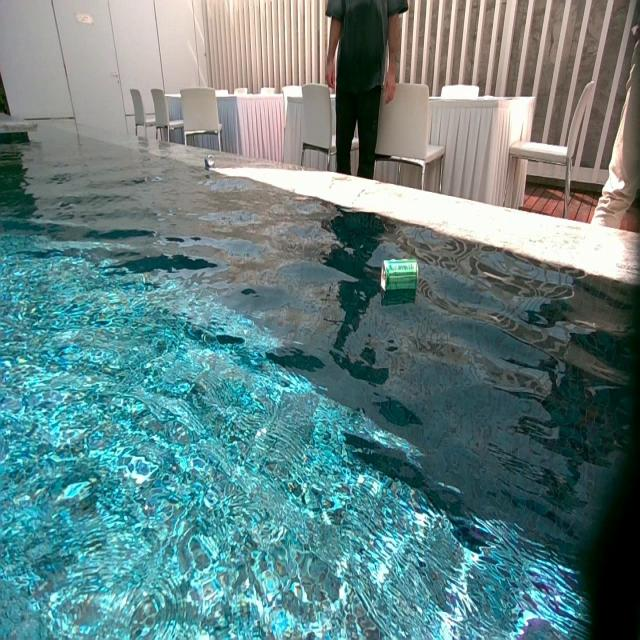Cans: (378, 258, 420, 292), (205, 155, 215, 169)
